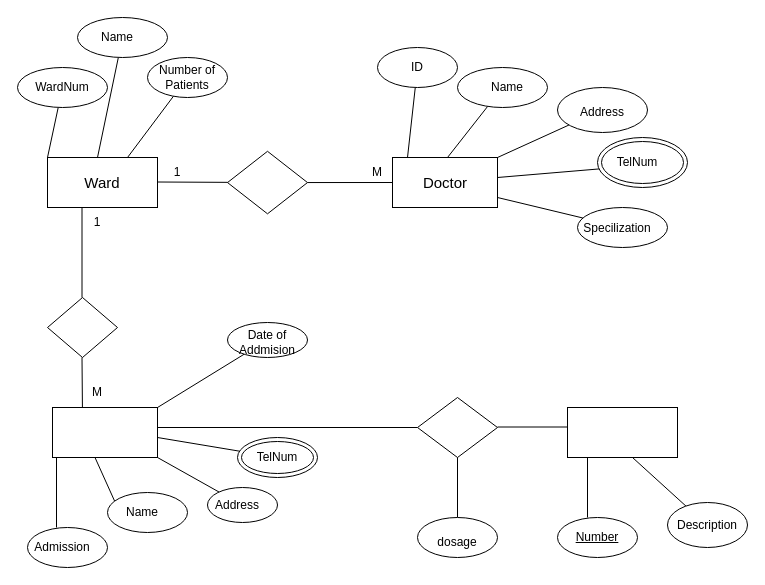
The diagram is 765 pixels wide and 585 high, and some of its shapes have lost their labels. Here are the shapes that lost their labels. From the top down, the centre of each, then its label:
At pixel 267 182: "Assigned".
At pixel 82 327: "Hosts".
At pixel 105 432: "Patients".
At pixel 457 427: "Prescribed".
At pixel 622 432: "Treatment".
